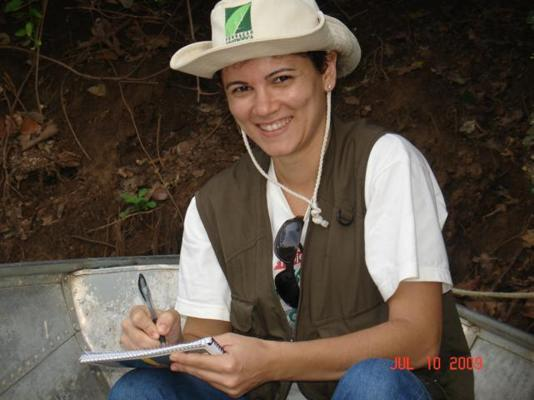person: (107, 3, 454, 400)
